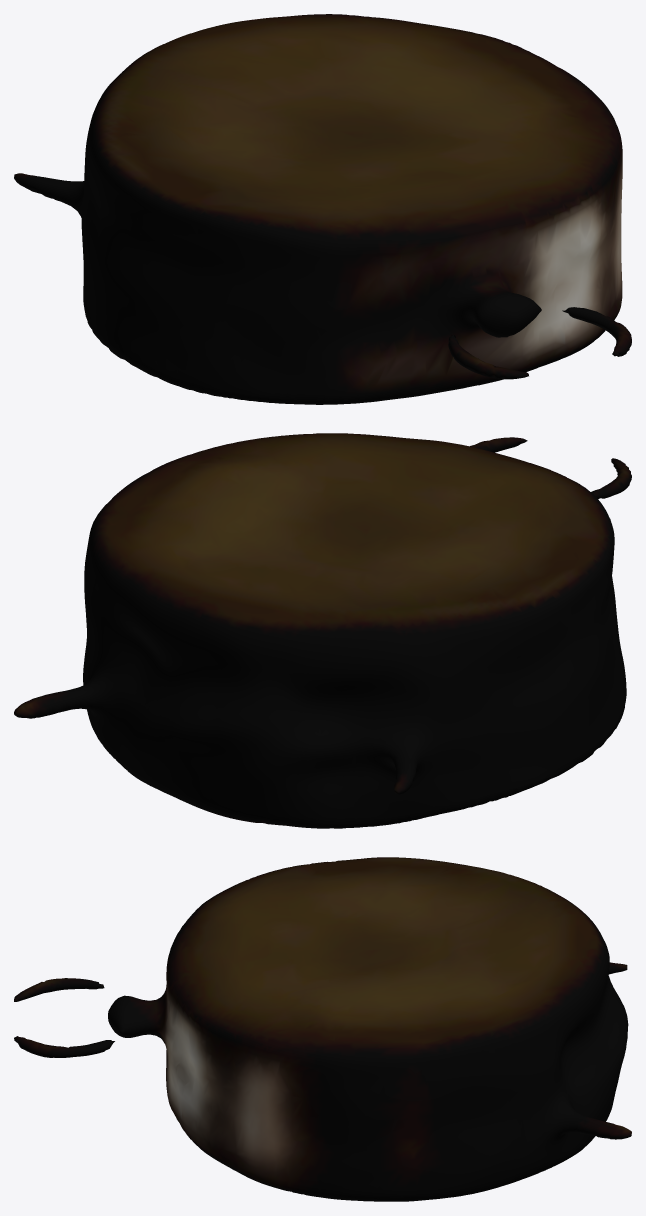
The model's file is alarm.glb.
3 views of the same model, one above another, from view 1: azimuth 30°, elevation 25°; view 2: azimuth 150°, elevation 25°; view 3: azimuth 270°, elevation 25° (orthographic). The views are drawn at different scales.
Bounding box in the file's own units: 0.744 × 0.3128 × 0.9953.
